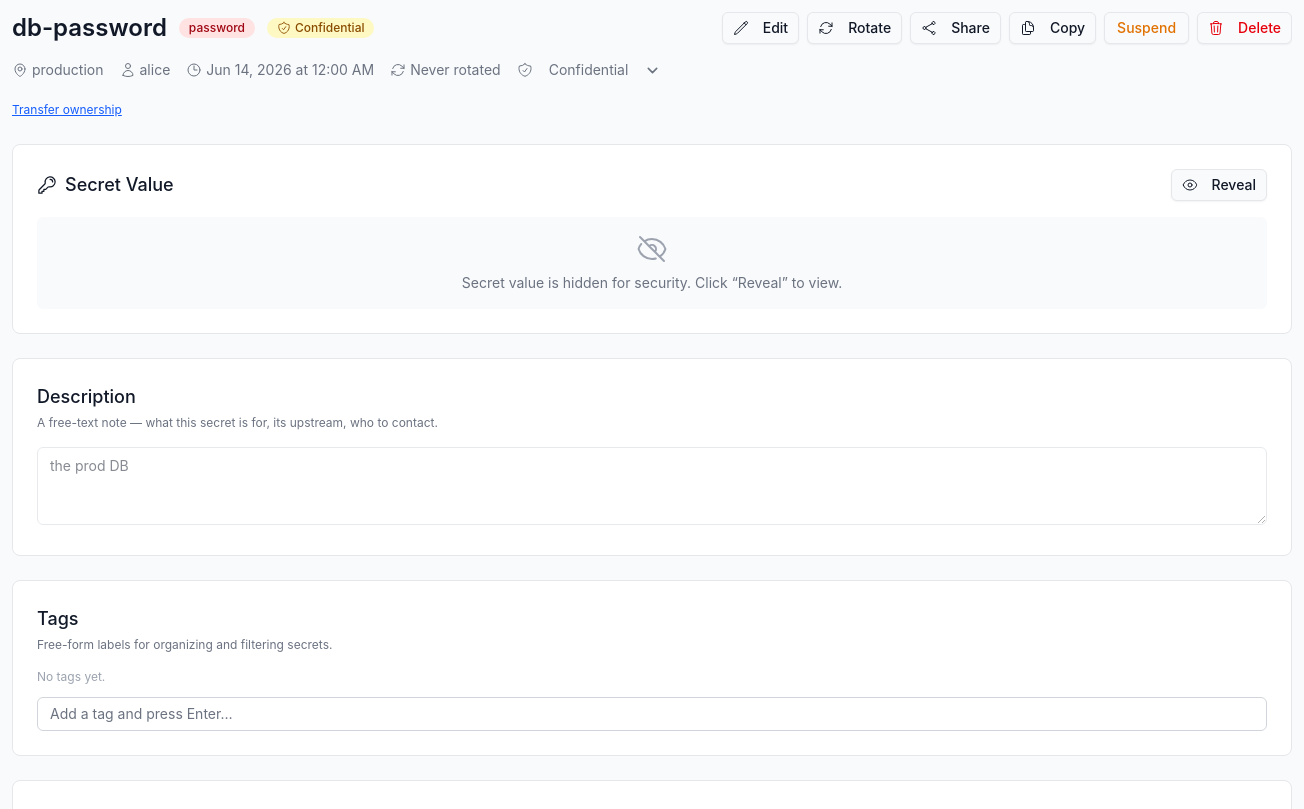
Scenario: SecretDetailView secret value reveal › shows a loading state while the value is being fetched
The width and height of the screenshot is (1304, 809).
Click the button "Reveal". click: (1219, 185)
box: [1170, 169, 1267, 201]
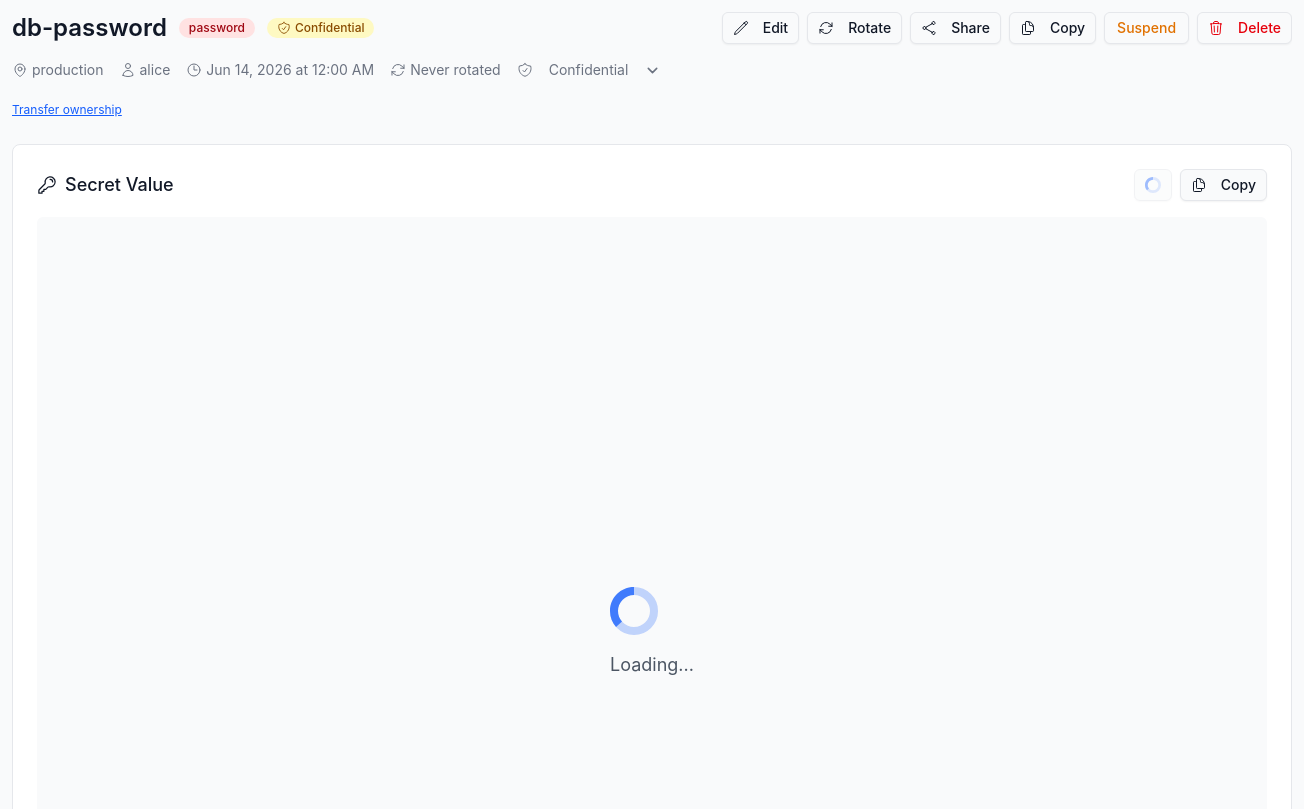
Expected: the text "Loading..." is shown, [610, 651, 694, 679]
